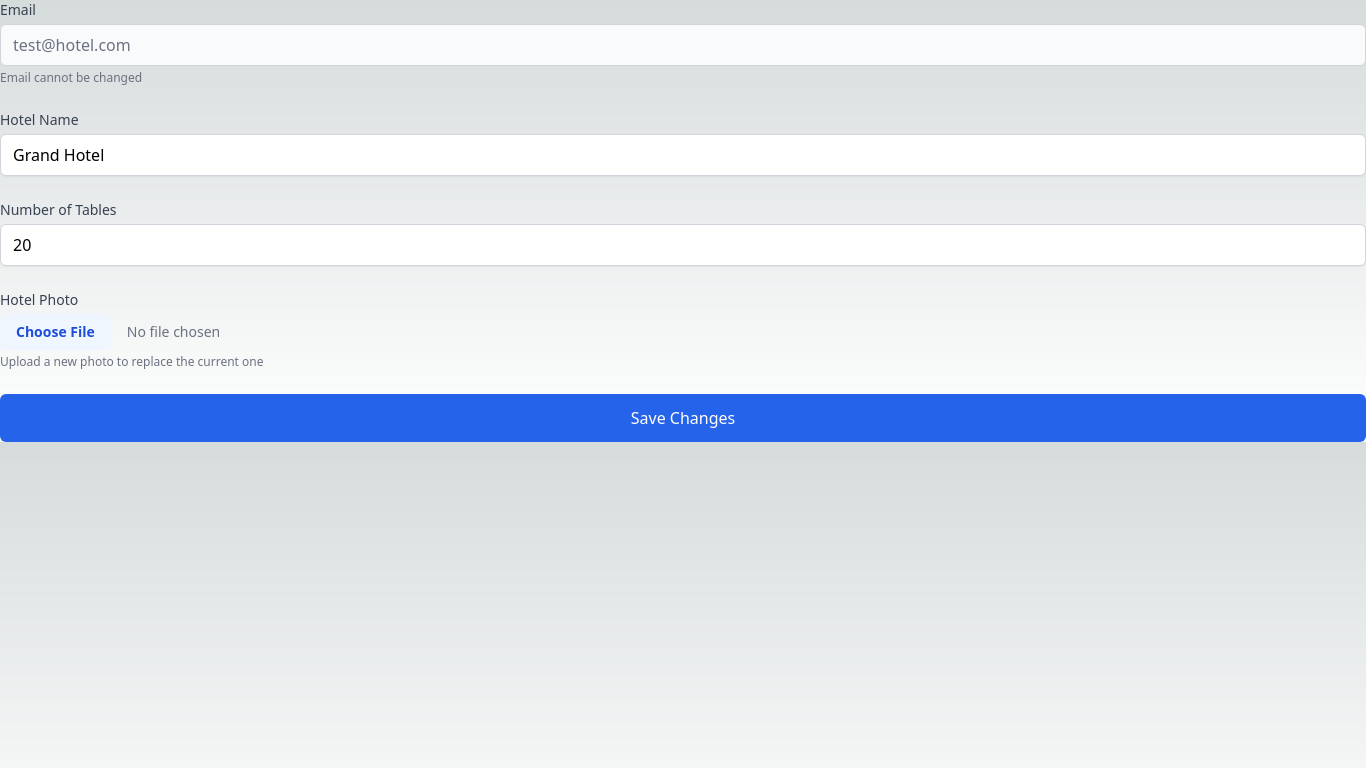
Test: ProfileForm › displays error message when profile update fails
Type "Updated Hotel" into the field labelled "Hotel Name" at (683, 155), box [0,134,1365,176]
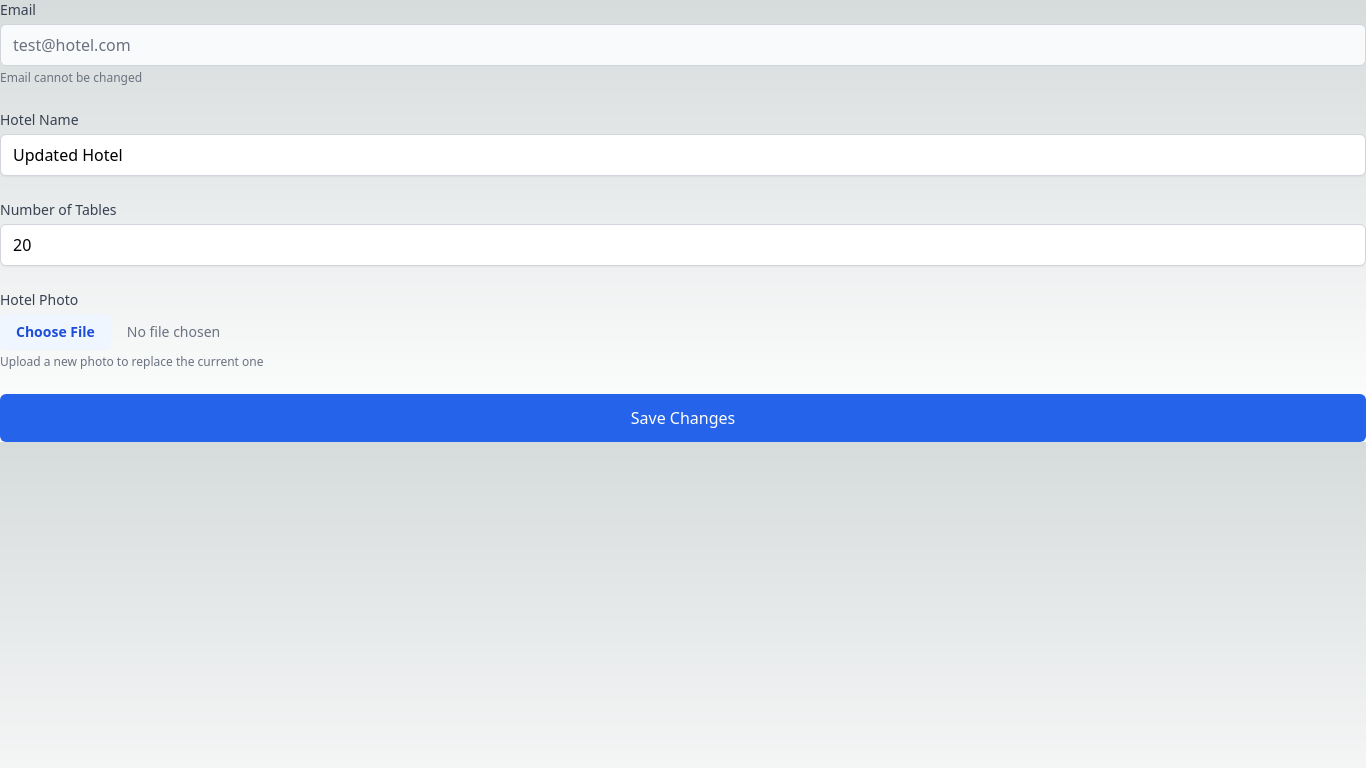
Click the button "Save Changes" at (683, 418), box [0,394,1365,442]
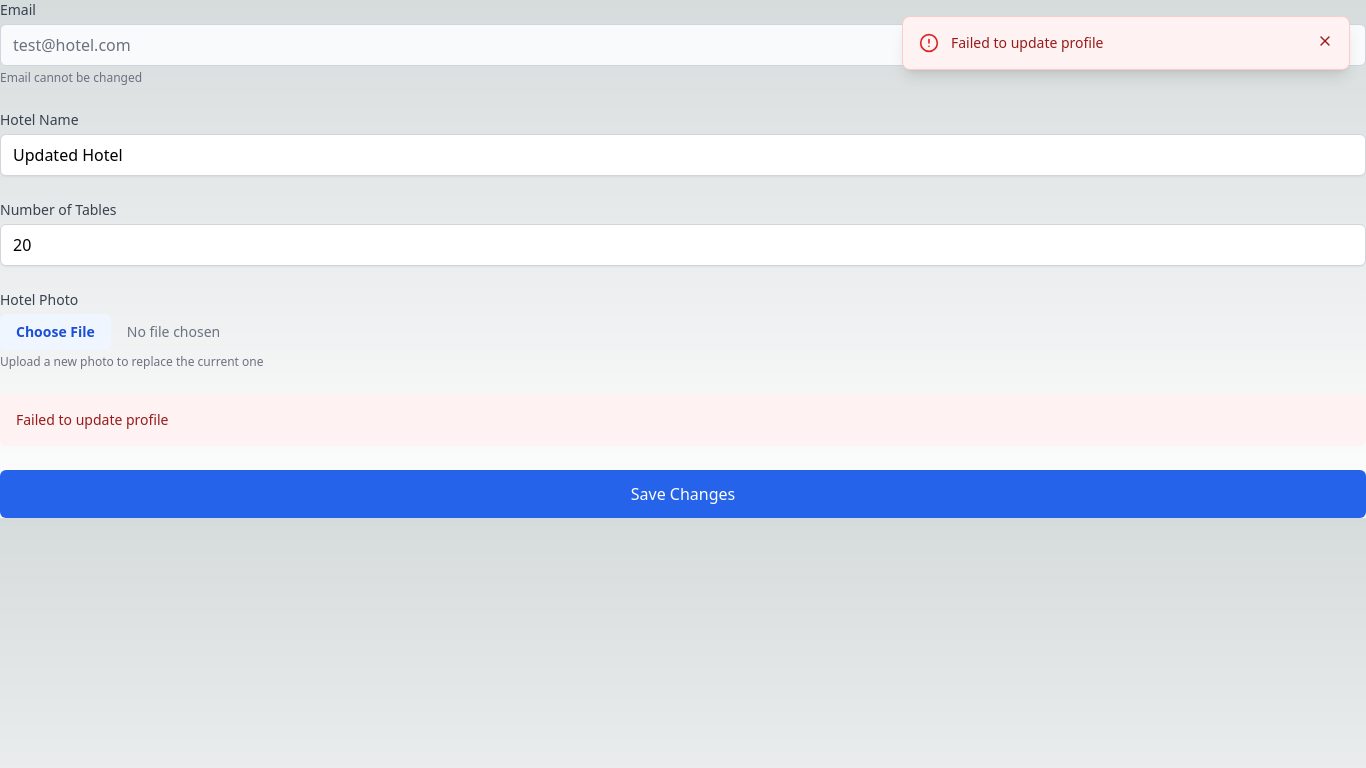
Result: the text "Failed to update profile" below "Hotel Photo" is shown at [16,410,168,429]
